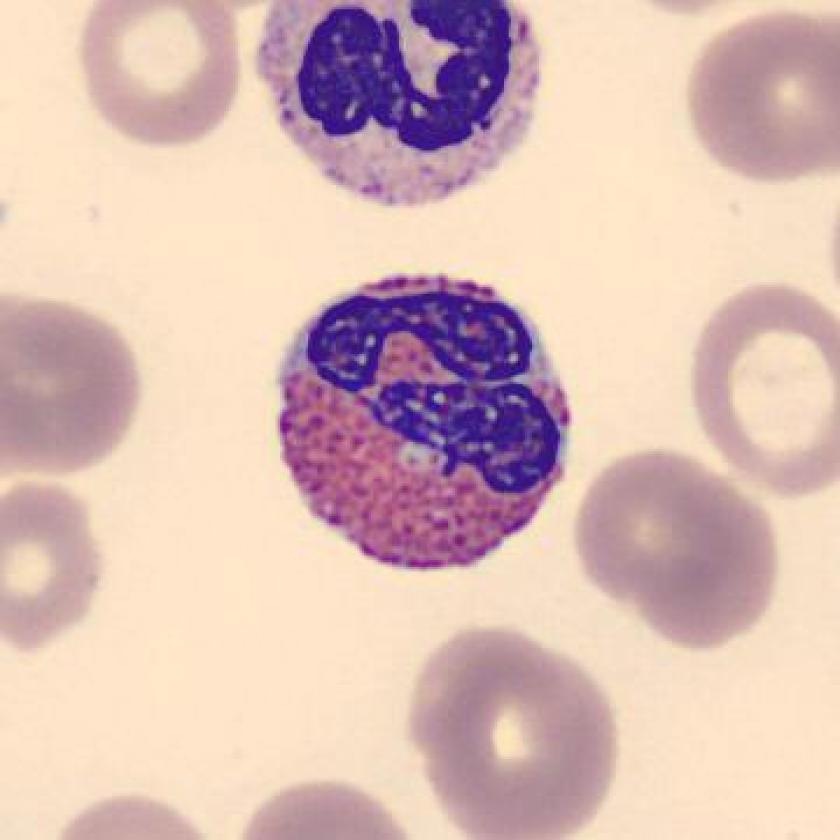eosinophil: (267, 262, 580, 589)
